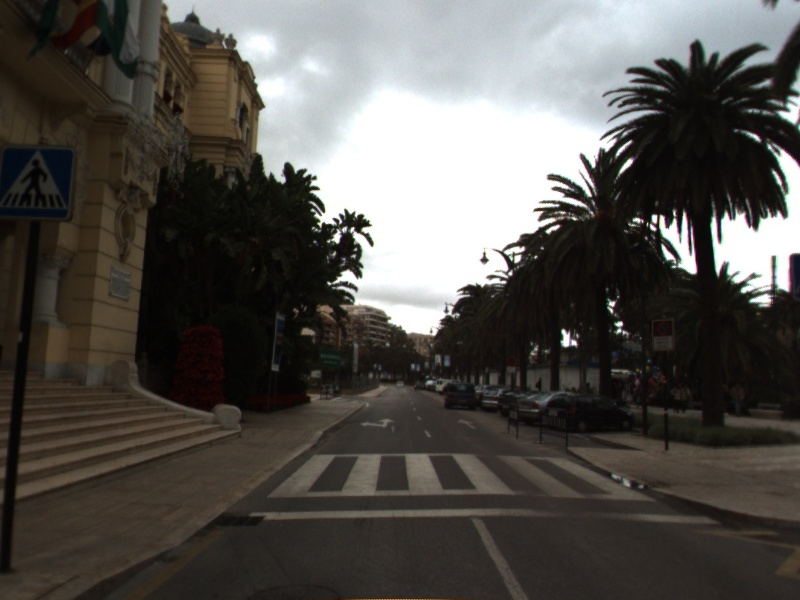STRAIGHT: (455, 417, 480, 431)
STRAIGHT_LEFT: (358, 416, 397, 430)
